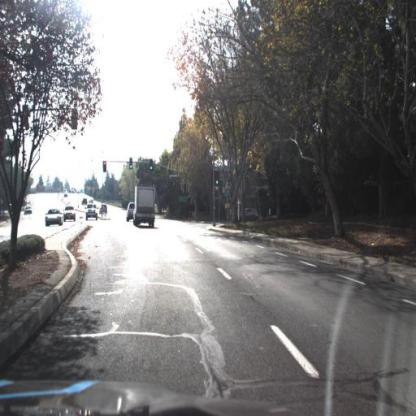car: (42, 207, 67, 230), (126, 200, 139, 225), (128, 201, 137, 224), (99, 205, 109, 215), (25, 208, 33, 217), (81, 197, 88, 207)
trafficLight: (102, 158, 110, 176)
trafficLight-Green: (211, 168, 223, 191), (147, 156, 156, 174), (128, 155, 135, 174)
trafficLight-RedLeft: (103, 159, 108, 174)
truck: (130, 183, 159, 230)
